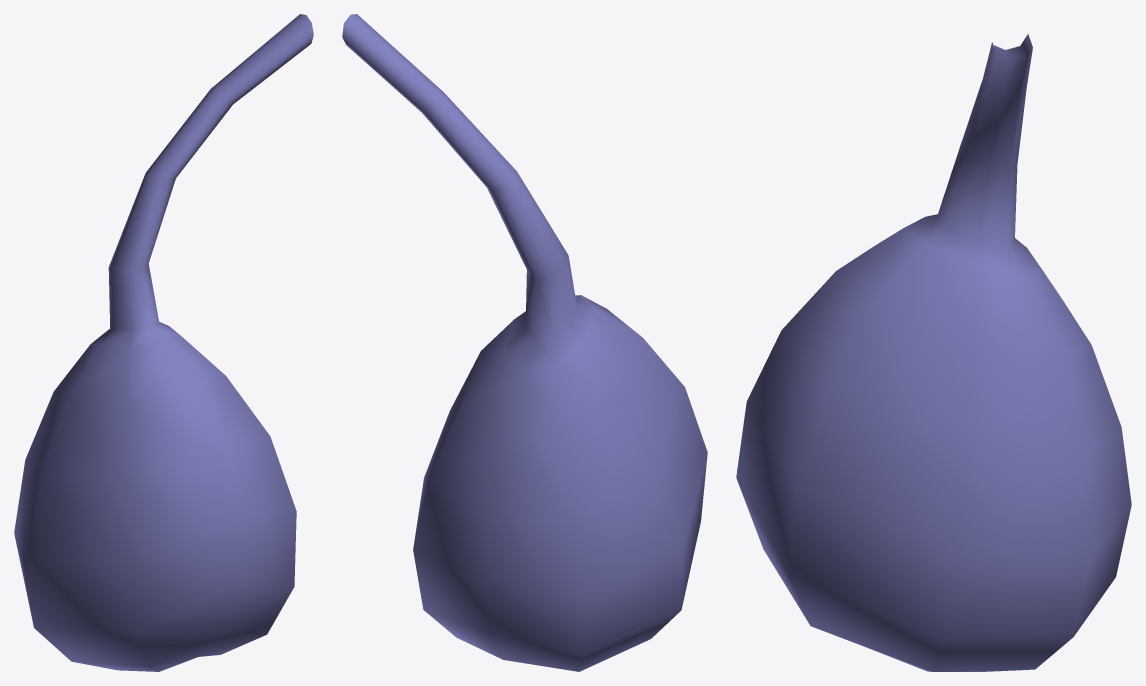
The model's file is Pituitary_Gland_Part_A_Trans.gltf.
The picture shows the model from 3 angles, left to right: view 1: azimuth 30°, elevation 25°; view 2: azimuth 150°, elevation 25°; view 3: azimuth 270°, elevation 25°; orthographic projection. The views are drawn at different scales.
Visible parts, largest first — view 1: Pituitary_Gland_Part_A; view 2: Pituitary_Gland_Part_A; view 3: Pituitary_Gland_Part_A.
Part boxes in pixels (x1,y1,x2,y2): Pituitary_Gland_Part_A: (14, 14, 313, 671); Pituitary_Gland_Part_A: (342, 14, 707, 671); Pituitary_Gland_Part_A: (736, 34, 1131, 671).
Size of the model in its own units: 0.3624 by 0.6701 by 0.3209.
